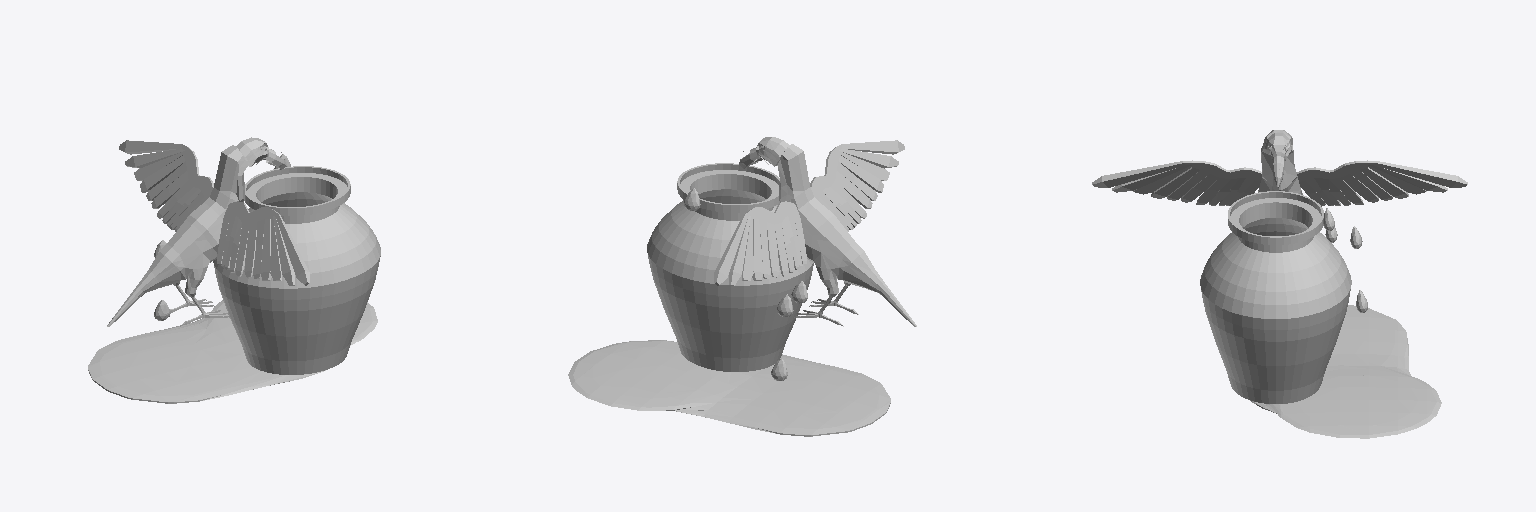
The model's file is bheegahuakaua4.obj.
3 renders of one model, left to right at view 1: azimuth 30°, elevation 25°; view 2: azimuth 150°, elevation 25°; view 3: azimuth 270°, elevation 25°, orthographic.
Visible parts, largest first — view 1: Circle, Cylinder, Mball; view 2: Circle, Mball, Cylinder; view 3: Circle, Mball, Cylinder.
Part boxes in pixels (x1,y1,x2,y2): Circle: (213,166,380,374); Cylinder: (107,137,309,326); Mball: (88,300,377,403); Circle: (647,163,813,371); Mball: (568,340,890,436); Cylinder: (714,137,916,326); Circle: (1200,191,1351,403); Mball: (1250,305,1441,438); Cylinder: (1092,130,1467,206).
Size of the model in its own units: 1.18 by 0.8918 by 1.28.